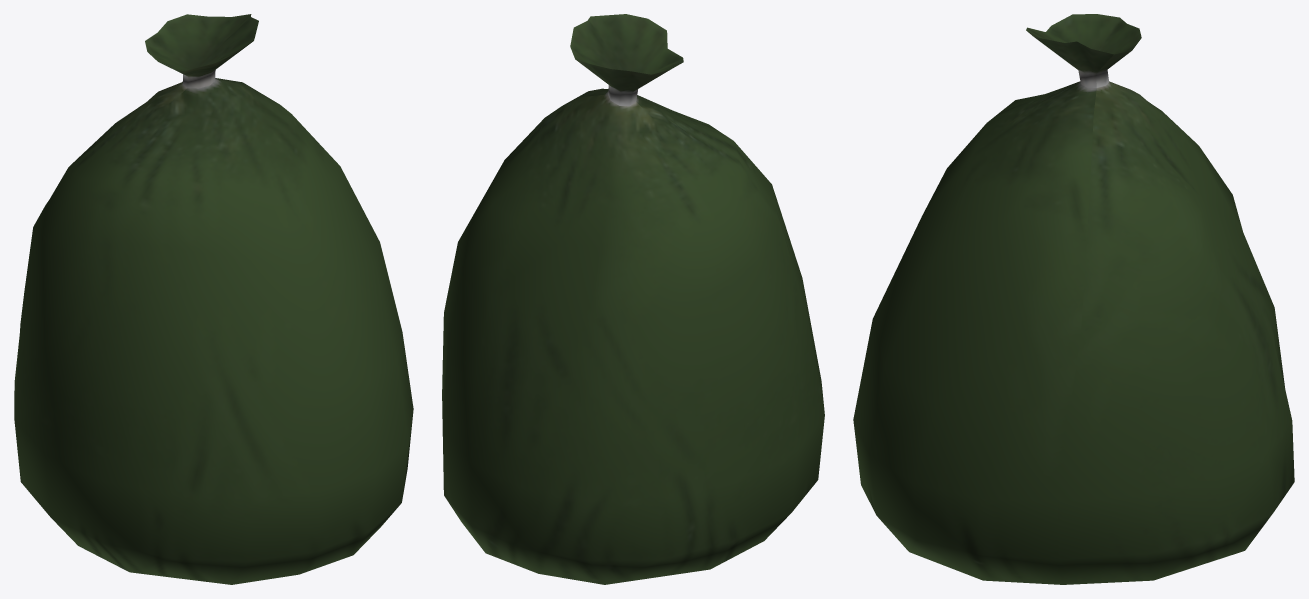
The model's file is Garbage_01.fbx.
The picture shows the model from 3 angles, left to right: view 1: azimuth 30°, elevation 25°; view 2: azimuth 150°, elevation 25°; view 3: azimuth 270°, elevation 25°; orthographic projection. The views are drawn at different scales.
Visible parts, largest first — view 1: polySurface1044; view 2: polySurface1044; view 3: polySurface1044.
Part boxes in pixels (x1,y1,x2,y2): polySurface1044: (14, 14, 413, 584); polySurface1044: (442, 14, 824, 584); polySurface1044: (853, 14, 1294, 584).
Size of the model in its own units: 86 by 120 by 93.81.
